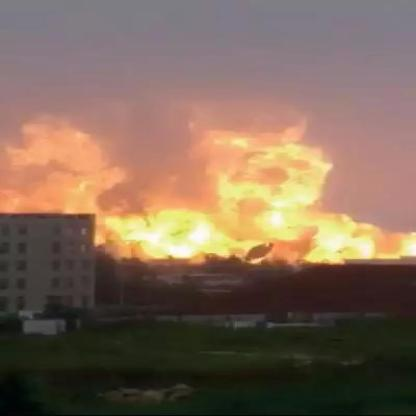fire: (93, 123, 416, 269)
